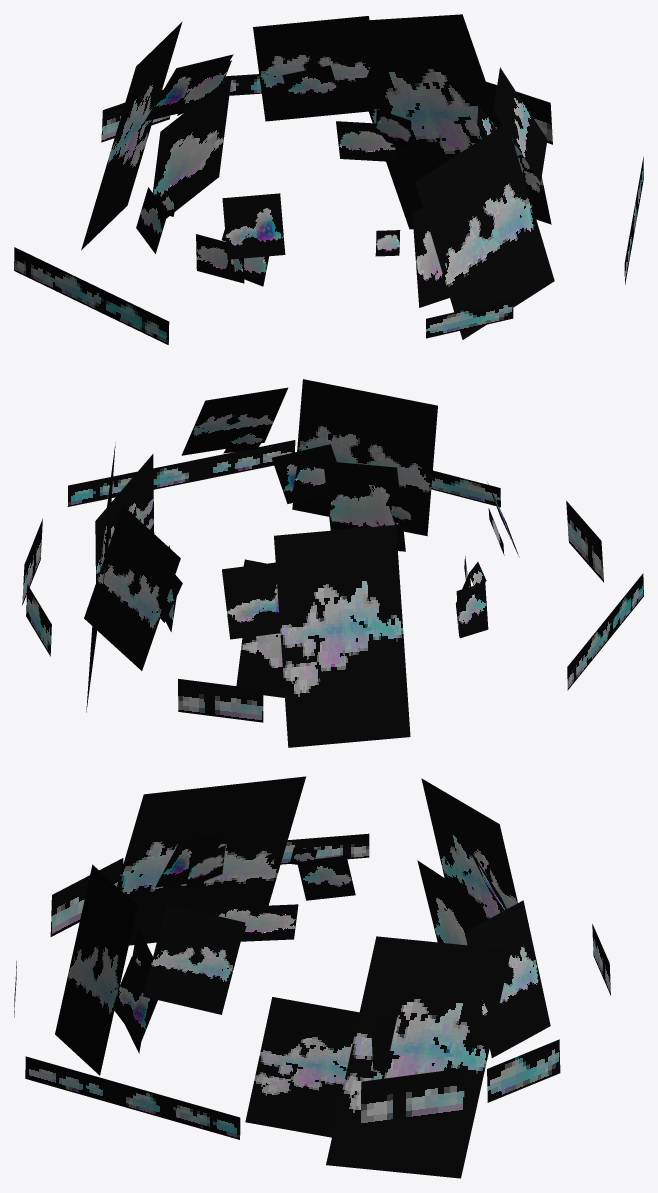
The model's file is objects_un_cloudtest03.gltf.
3 renders of one model, top to bottom at view 1: azimuth 30°, elevation 25°; view 2: azimuth 150°, elevation 25°; view 3: azimuth 270°, elevation 25°, orthographic. The views are drawn at different scales.
Visible parts, largest first — view 1: objects_un_cloudtest03_mesh_shape:objects_un_cloudtest03_thi (×3), objects_un_cloudtest03_mesh_shape:objects_un_cloudtest03_hor (×3), objects_un_cloudtest03_mesh_shape:objects_un_cloudtest03_sin (×2), objects_un_cloudtest03_mesh_shape:objects_un_cloudtest03_lar, objects_un_cloudtest03_mesh_shape:objects_un_cloudtest03_mid; view 2: objects_un_cloudtest03_mesh_shape:objects_un_cloudtest03_thi (×3), objects_un_cloudtest03_mesh_shape:objects_un_cloudtest03_hor (×3), objects_un_cloudtest03_mesh_shape:objects_un_cloudtest03_mid, objects_un_cloudtest03_mesh_shape:objects_un_cloudtest03_lar, objects_un_cloudtest03_mesh_shape:objects_un_cloudtest03_sin; view 3: objects_un_cloudtest03_mesh_shape:objects_un_cloudtest03_thi (×3), objects_un_cloudtest03_mesh_shape:objects_un_cloudtest03_hor (×3), objects_un_cloudtest03_mesh_shape:objects_un_cloudtest03_sin (×2), objects_un_cloudtest03_mesh_shape:objects_un_cloudtest03_lar, objects_un_cloudtest03_mesh_shape:objects_un_cloudtest03_mid.
Boxes of the visible parts, x1,y1,x2,y2 form: objects_un_cloudtest03_mesh_shape:objects_un_cloudtest03_thi (×3): [81, 14, 554, 339]; objects_un_cloudtest03_mesh_shape:objects_un_cloudtest03_hor (×3): [14, 65, 643, 344]; objects_un_cloudtest03_mesh_shape:objects_un_cloudtest03_sin (×2): [177, 60, 411, 286]; objects_un_cloudtest03_mesh_shape:objects_un_cloudtest03_lar: [152, 75, 231, 218]; objects_un_cloudtest03_mesh_shape:objects_un_cloudtest03_mid: [412, 208, 449, 307]; objects_un_cloudtest03_mesh_shape:objects_un_cloudtest03_thi (×3): [84, 379, 519, 747]; objects_un_cloudtest03_mesh_shape:objects_un_cloudtest03_hor (×3): [22, 427, 643, 722]; objects_un_cloudtest03_mesh_shape:objects_un_cloudtest03_mid: [323, 461, 405, 551]; objects_un_cloudtest03_mesh_shape:objects_un_cloudtest03_lar: [236, 633, 284, 697]; objects_un_cloudtest03_mesh_shape:objects_un_cloudtest03_sin: [165, 458, 504, 636]; objects_un_cloudtest03_mesh_shape:objects_un_cloudtest03_thi (×3): [55, 776, 550, 1178]; objects_un_cloudtest03_mesh_shape:objects_un_cloudtest03_hor (×3): [14, 833, 610, 1139]; objects_un_cloudtest03_mesh_shape:objects_un_cloudtest03_sin (×2): [144, 845, 493, 976]; objects_un_cloudtest03_mesh_shape:objects_un_cloudtest03_lar: [417, 860, 479, 945]; objects_un_cloudtest03_mesh_shape:objects_un_cloudtest03_mid: [125, 926, 152, 1053].
Size of the model in its own units: 15150 by 6347 by 14256.
10 materials, 10 textured.
